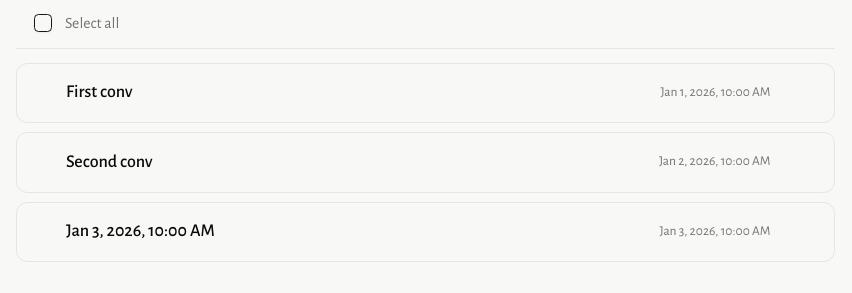
Test: ConversationList › should deselect all when select-all is clicked again
Click the checkbox named "select all" at (42, 23), box [34,14,52,32]
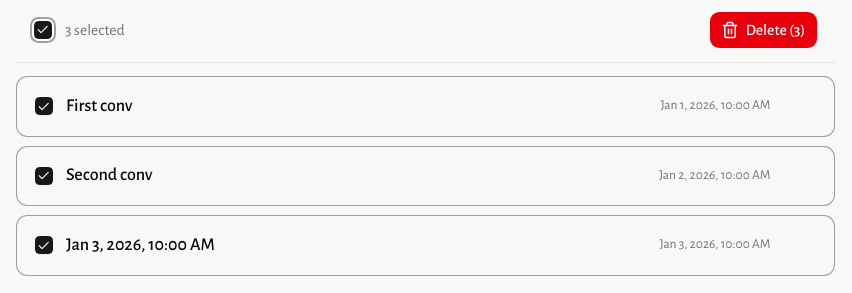
Click the checkbox named "select all" at (42, 30), box [34,21,52,39]
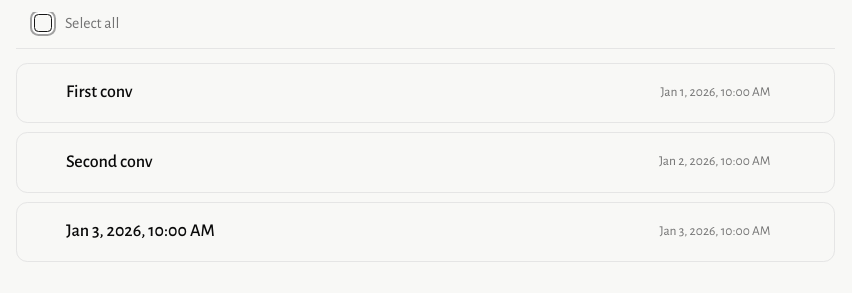
Check: the text "selected" is gone
